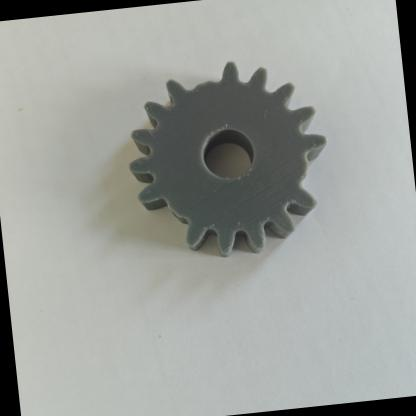defect: (141, 36, 250, 124), (113, 181, 224, 266), (252, 129, 353, 221)
gear: (91, 18, 365, 282)
